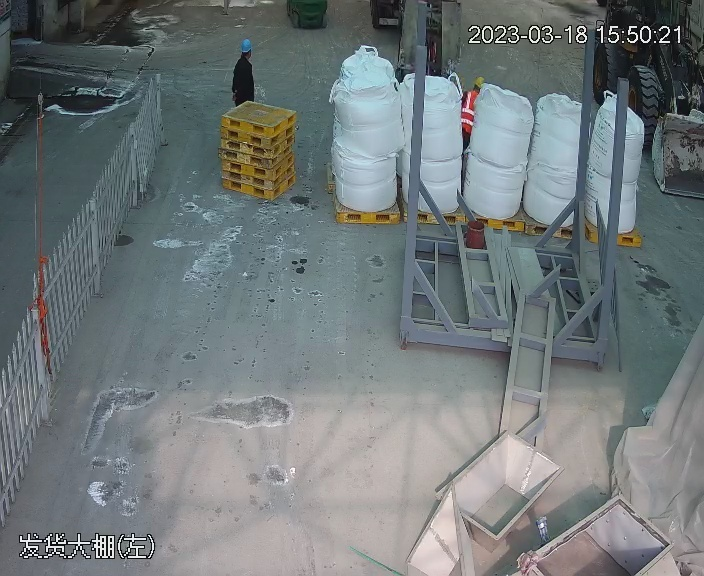head: (234, 37, 256, 70)
helmet: (239, 37, 253, 51), (473, 74, 485, 87)
people: (230, 37, 258, 104)
